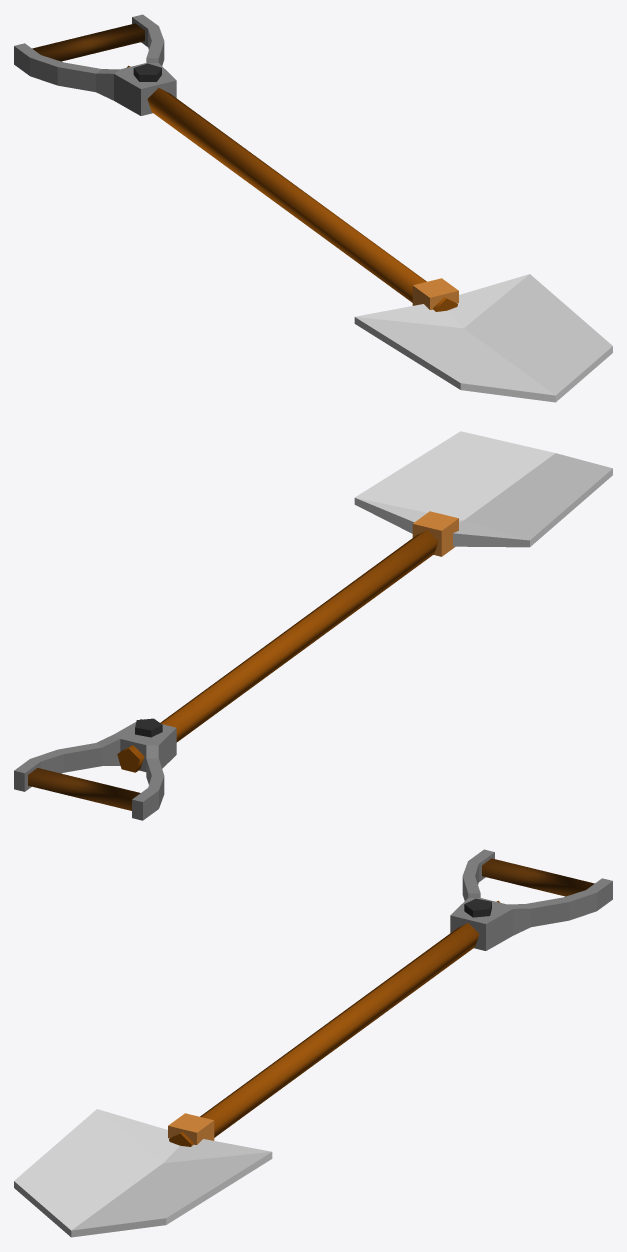
The model's file is shovel.fbx.
3 renders of one model, top to bottom at view 1: azimuth 30°, elevation 25°; view 2: azimuth 150°, elevation 25°; view 3: azimuth 330°, elevation 25°, orthographic.
Parts seen in each view (by area): view 1: shovel; view 2: shovel; view 3: shovel.
Boxes of the visible parts, left/top/right/bottom form: shovel: left=14, top=14, right=612, bottom=402; shovel: left=14, top=431, right=612, bottom=820; shovel: left=14, top=849, right=612, bottom=1237.
Bounding box in the file's own units: 679 × 126 × 3198.
